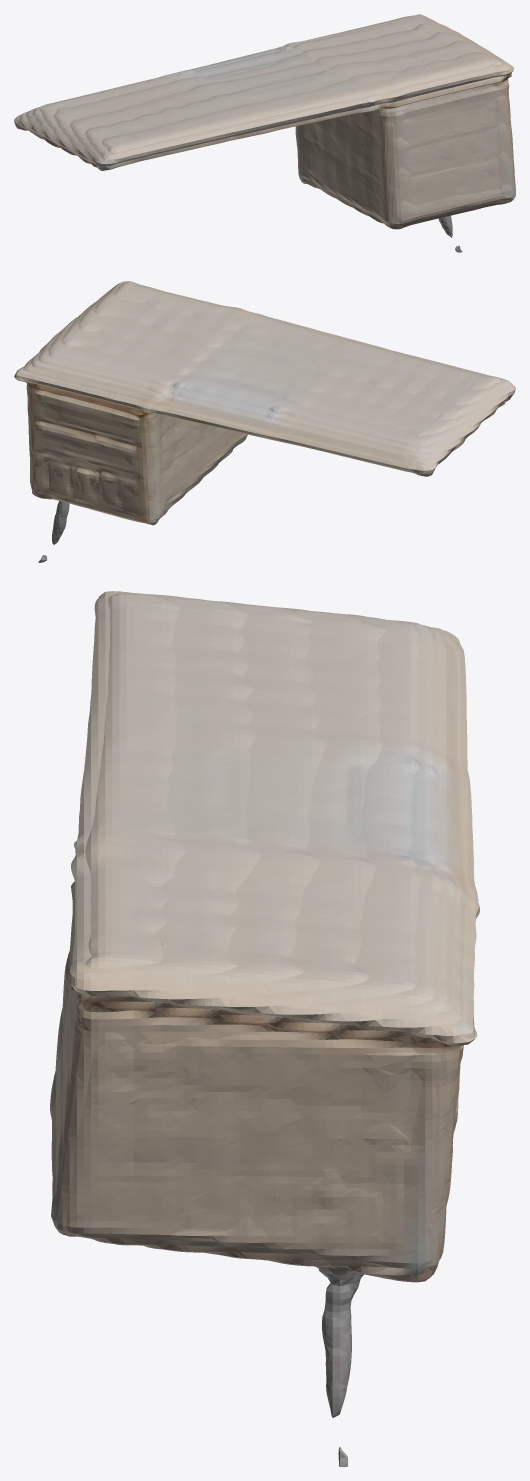
File: workstation-desk.glb
The picture shows the model from 3 angles, top to bottom: view 1: azimuth 30°, elevation 25°; view 2: azimuth 150°, elevation 25°; view 3: azimuth 270°, elevation 25°; orthographic projection. The views are drawn at different scales.
Visible parts, largest first — view 1: world; view 2: world; view 3: world.
Boxes of the visible parts, x1,y1,x2,y2 form: world: (14, 14, 515, 252); world: (14, 281, 515, 562); world: (50, 591, 479, 1466).
Bounding box in the file's own units: 0.9286 × 0.5118 × 0.4129.
